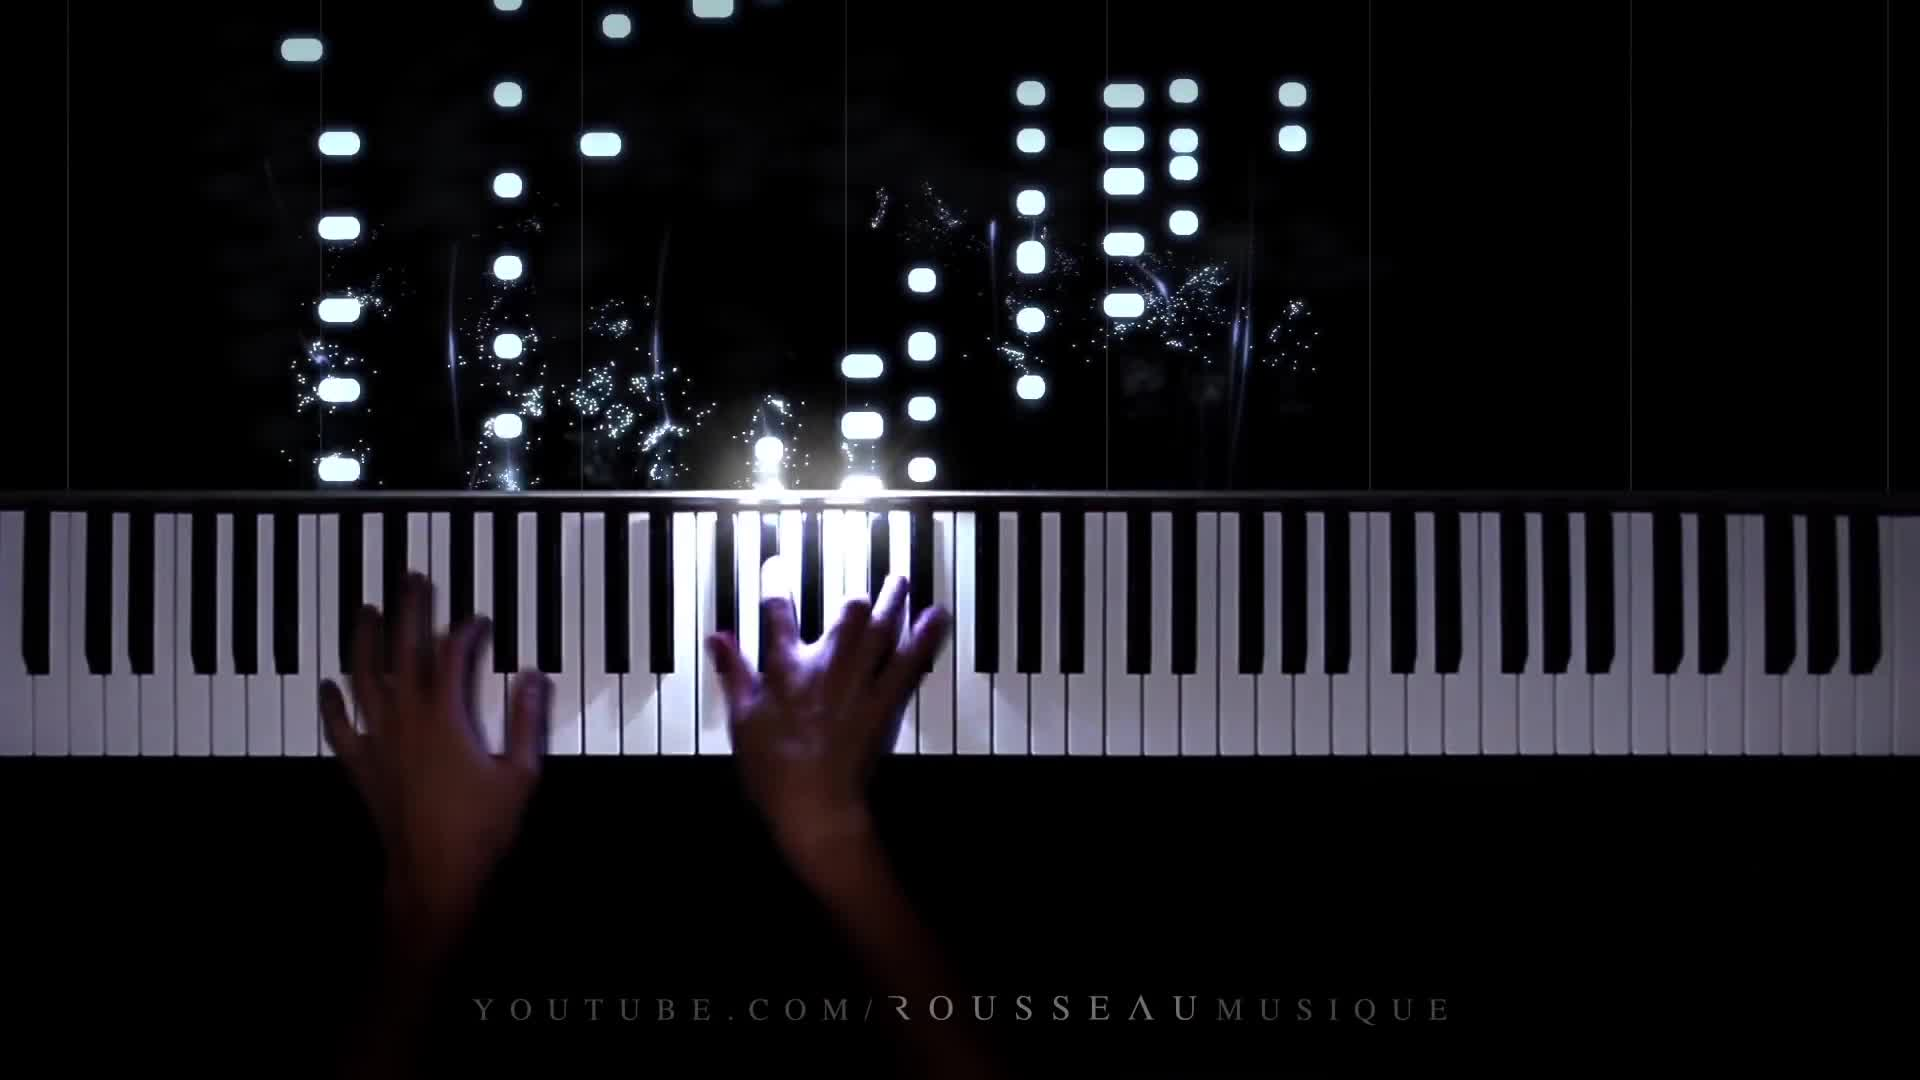left: (310, 568, 575, 873)
right: (708, 553, 952, 807)
